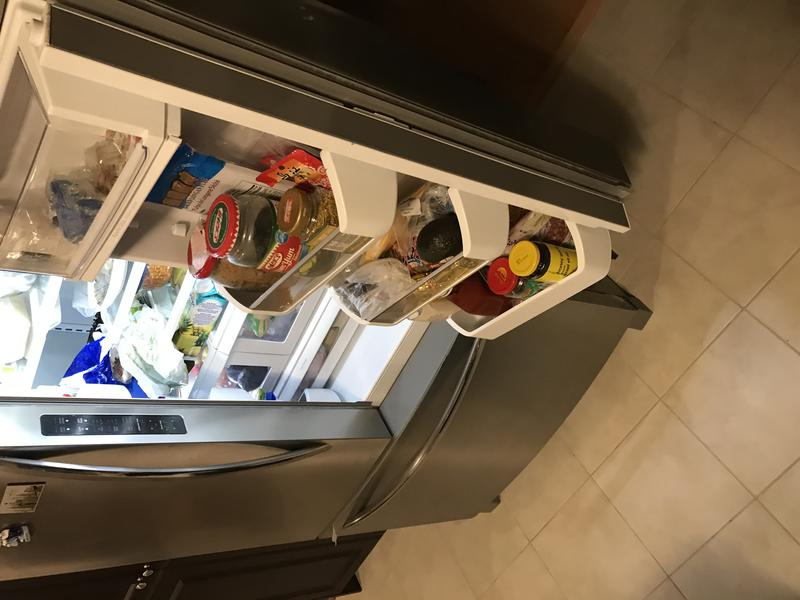avacado: (409, 212, 475, 268)
